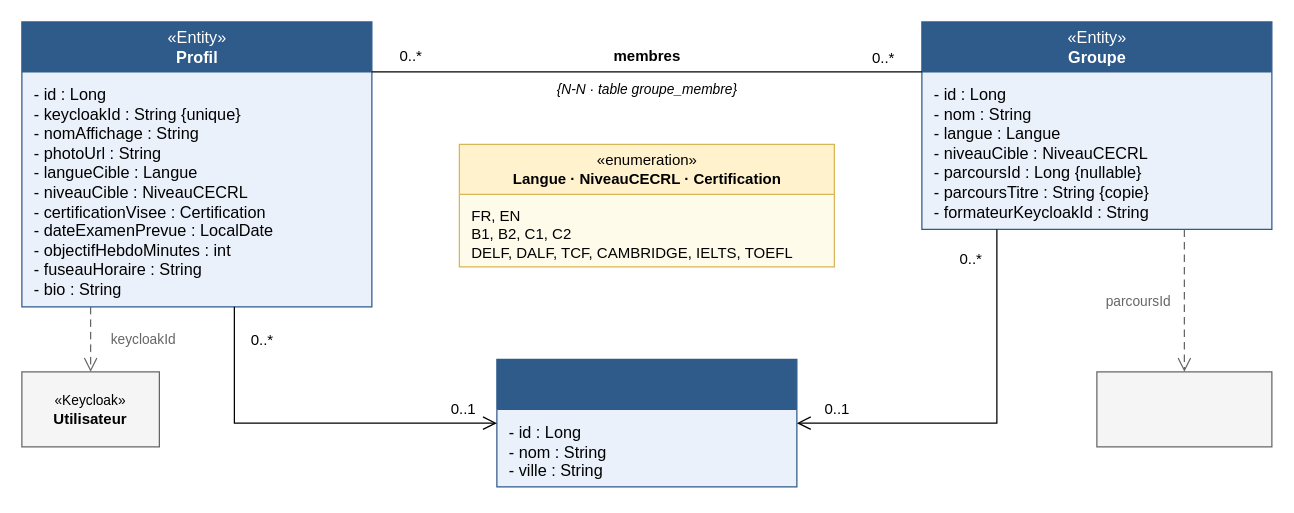
Some shapes in this 1294 by 513 pixel diagram are drawn without their labels. The shapes that lost their labels are listed below. From the top down, each one's box as (x1, y1, x2, y2) in pixels, then its label:
(496, 358, 797, 487): «Entity» Etablissement
(1096, 371, 1272, 447): «content-service» Parcours
